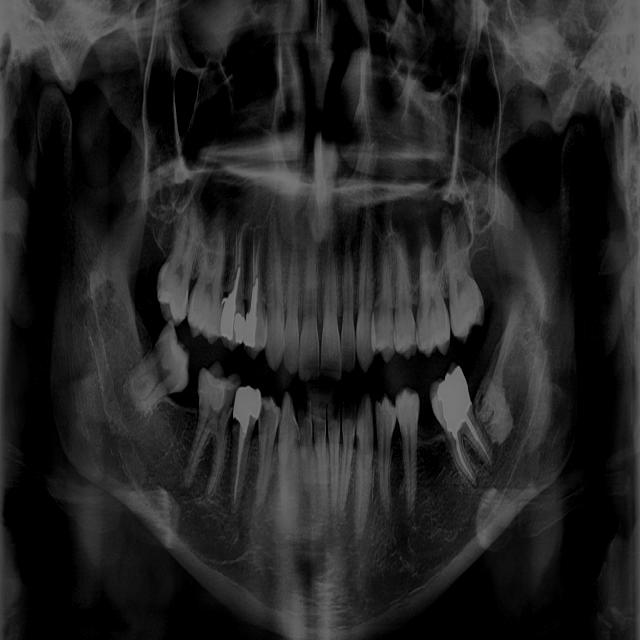Caries: (223, 378, 238, 418), (260, 401, 268, 432), (158, 271, 164, 299), (416, 300, 423, 324)
Filling: (437, 366, 472, 435), (234, 386, 262, 432), (233, 313, 244, 344)
Missing teeth: (415, 385, 447, 442), (163, 372, 202, 412)
Periapical lesion: (107, 377, 136, 418), (229, 479, 247, 516), (250, 489, 269, 523), (175, 473, 196, 498), (267, 211, 282, 240), (485, 449, 498, 474), (471, 469, 479, 490)
Root Canal Treatment: (462, 413, 491, 465), (455, 432, 474, 482), (235, 426, 245, 498), (256, 239, 260, 278), (238, 231, 242, 264), (235, 229, 238, 270), (253, 232, 255, 284)
